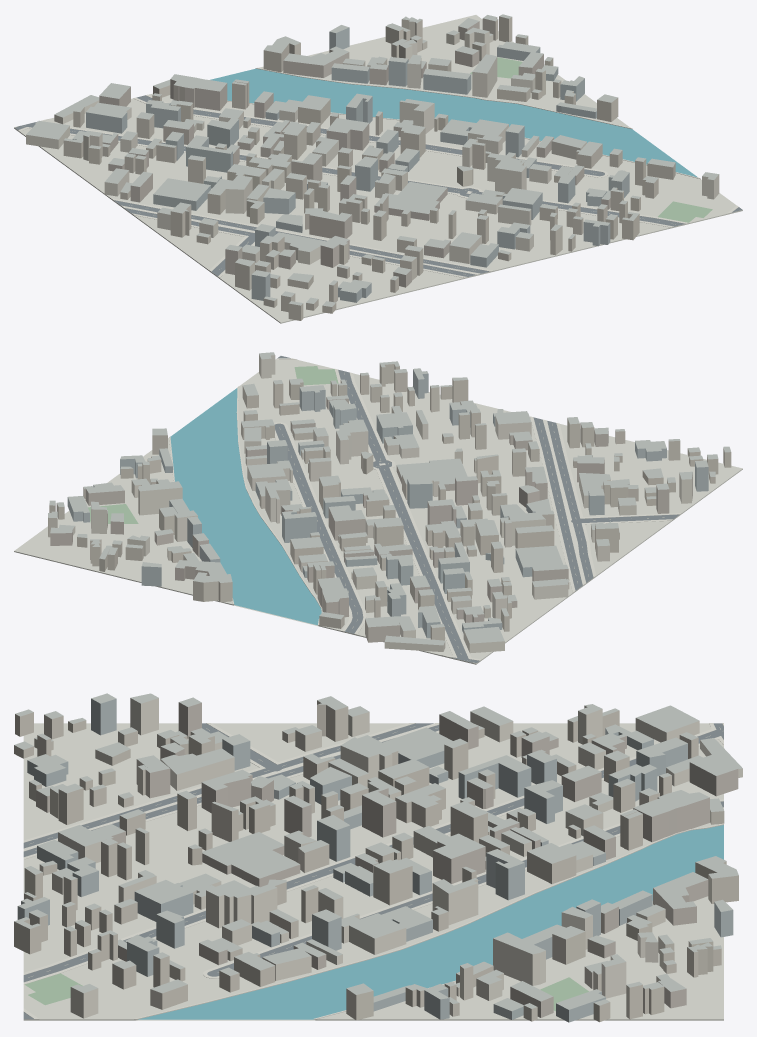
3 views of the same model, one above another, from view 1: azimuth 30°, elevation 25°; view 2: azimuth 150°, elevation 25°; view 3: azimuth 270°, elevation 25° (orthographic). The views are drawn at different scales.
Parts seen in each view (by area): view 1: city; view 2: city; view 3: city.
Boxes of the visible parts, x1,y1,x2,y2 form: city: [14, 14, 742, 323]; city: [14, 352, 742, 664]; city: [14, 693, 742, 1022].
Bounding box in the file's own units: 515 × 26 × 521.
